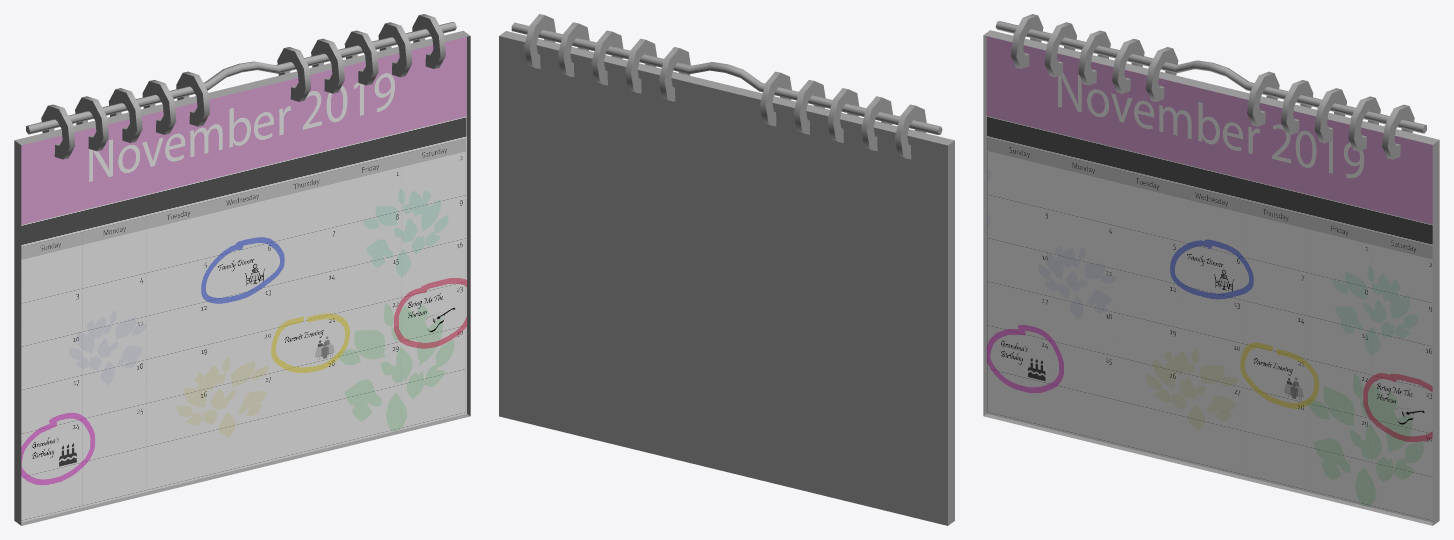
Rendered from Calender_Model.fbx.
3 views of the same model, side by side, from view 1: azimuth 30°, elevation 25°; view 2: azimuth 150°, elevation 25°; view 3: azimuth 330°, elevation 25° (orthographic).
Visible parts, largest first — view 1: polySurface19, polySurface22, polySurface21; view 2: polySurface21, polySurface22; view 3: polySurface19, polySurface22, polySurface21.
Boxes of the visible parts, <box> form: polySurface19: <box>21,36,466,522</box>; polySurface22: <box>26,14,456,159</box>; polySurface21: <box>14,30,470,525</box>; polySurface21: <box>499,31,954,525</box>; polySurface22: <box>511,14,942,159</box>; polySurface19: <box>986,36,1432,522</box>; polySurface22: <box>995,14,1426,159</box>; polySurface21: <box>983,30,1439,525</box>.
Bounding box in the file's own units: 71.64 × 62.01 × 7.67.
